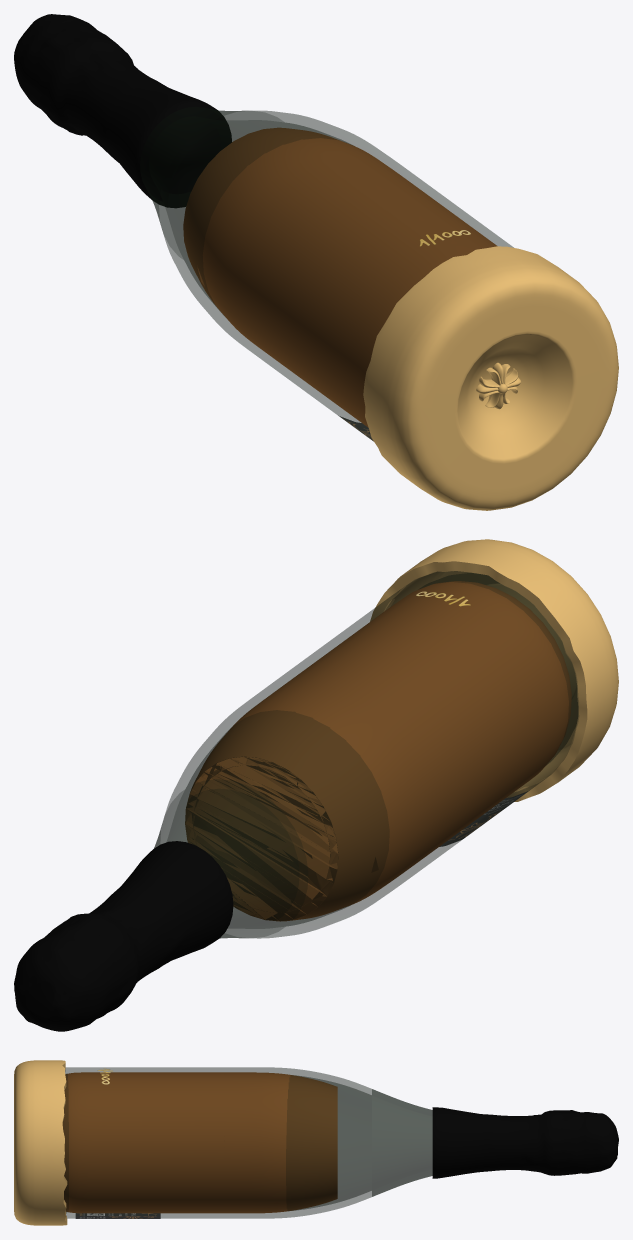
Rendered from KxCHBottle.glb.
3 views of the same model, one above another, from view 1: azimuth 30°, elevation 25°; view 2: azimuth 150°, elevation 25°; view 3: azimuth 270°, elevation 25° (orthographic). The views are drawn at different scales.
Parts seen in each view (by area): view 1: imagetostl_mesh9.001, Base without top.002, imagetostl_mesh9.002, Cylinder.007, object_3; view 2: imagetostl_mesh9.001, imagetostl_mesh9.002, Cylinder.007, Base without top.002, Plane.001; view 3: imagetostl_mesh9.001, imagetostl_mesh9.002, Cylinder.007, Base without top.002, Plane.001.
Part boxes in pixels (x1,y1,x2,y2): imagetostl_mesh9.001: (140,107,513,441); Base without top.002: (363,246,618,510); imagetostl_mesh9.002: (183,127,497,427); Cylinder.007: (14,14,231,207); object_3: (476,362,521,409); imagetostl_mesh9.001: (154,571,578,938); imagetostl_mesh9.002: (185,581,571,921); Cylinder.007: (14,841,233,1031); Base without top.002: (370,539,618,801); Plane.001: (439,791,527,846); imagetostl_mesh9.001: (63,1067,432,1218); imagetostl_mesh9.002: (62,1072,337,1213); Cylinder.007: (432,1107,618,1178); Base without top.002: (14,1060,67,1225); Plane.001: (75,1213,160,1218).
Size of the model in its own units: 0.7213 by 0.7281 by 2.66.
7 materials, 2 textured.
